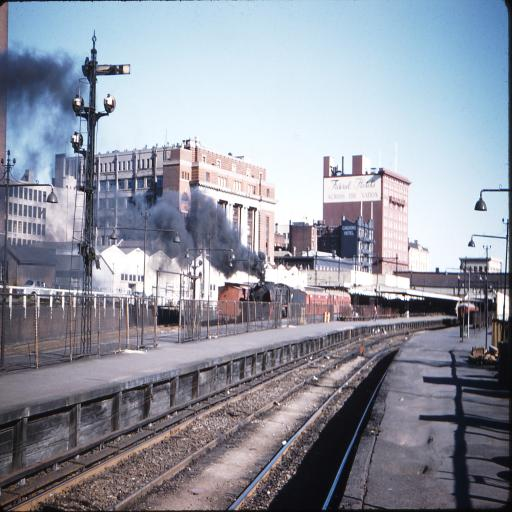platform_edge: (123, 331, 315, 375)
